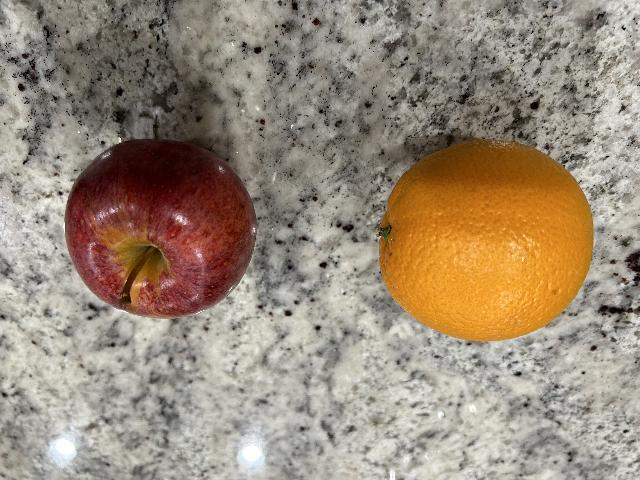Apples: (64, 138, 256, 320)
Oranges: (374, 138, 594, 344)
